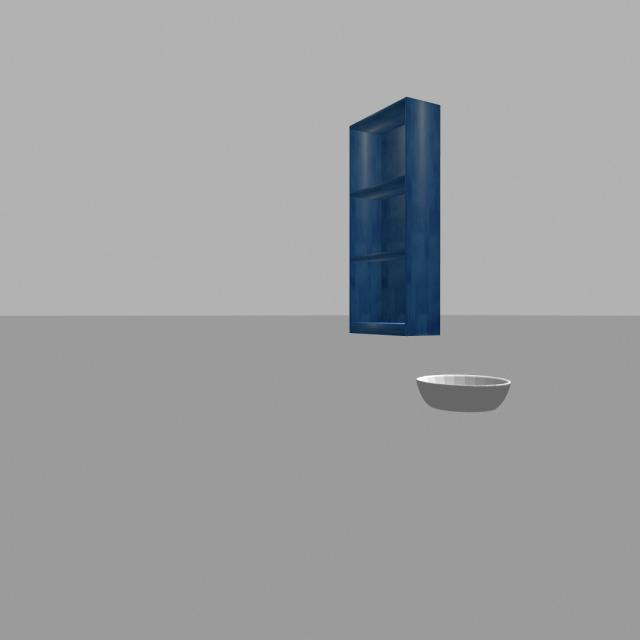bowl: (408, 371, 526, 425)
shelf: (334, 83, 452, 349)
